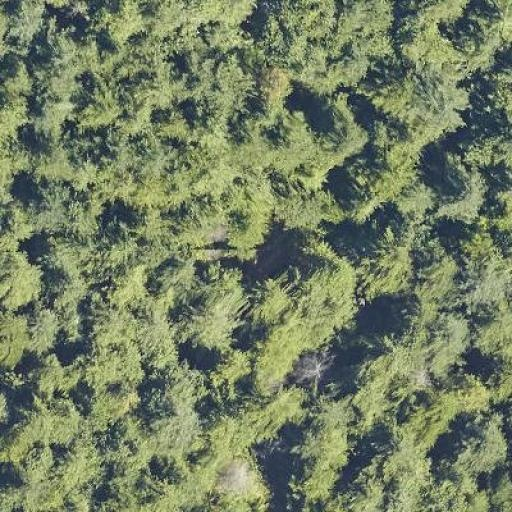tree-top: (284, 0, 390, 84), (368, 64, 476, 139), (356, 220, 428, 304), (181, 267, 250, 354), (210, 389, 305, 452), (358, 427, 433, 506), (282, 412, 351, 496), (292, 259, 355, 342), (141, 380, 203, 464), (430, 154, 496, 228), (454, 227, 512, 310), (410, 304, 476, 376), (13, 393, 89, 453), (360, 346, 422, 417), (268, 174, 336, 238), (278, 444, 344, 507), (186, 53, 247, 121), (314, 94, 374, 162), (24, 348, 88, 404), (258, 115, 319, 173), (174, 197, 232, 257), (41, 28, 90, 98), (455, 6, 512, 66), (393, 5, 449, 66), (143, 458, 205, 512), (53, 438, 107, 496), (1, 248, 48, 314), (455, 420, 510, 476), (80, 74, 132, 133), (241, 273, 293, 330), (208, 457, 266, 508), (89, 372, 144, 425), (14, 300, 67, 354), (26, 181, 77, 236), (93, 343, 147, 393), (92, 0, 148, 48), (442, 366, 498, 414), (152, 0, 222, 38), (104, 259, 155, 311), (471, 298, 512, 361), (41, 225, 92, 275), (251, 60, 301, 109), (209, 346, 259, 394), (88, 161, 132, 212), (484, 54, 512, 130), (28, 91, 72, 137), (32, 138, 74, 184), (5, 90, 48, 134), (392, 178, 444, 214), (6, 0, 49, 43), (135, 140, 179, 179), (202, 15, 248, 52), (487, 170, 512, 238), (0, 311, 28, 370), (228, 212, 268, 251), (4, 55, 35, 94), (491, 468, 512, 509)
